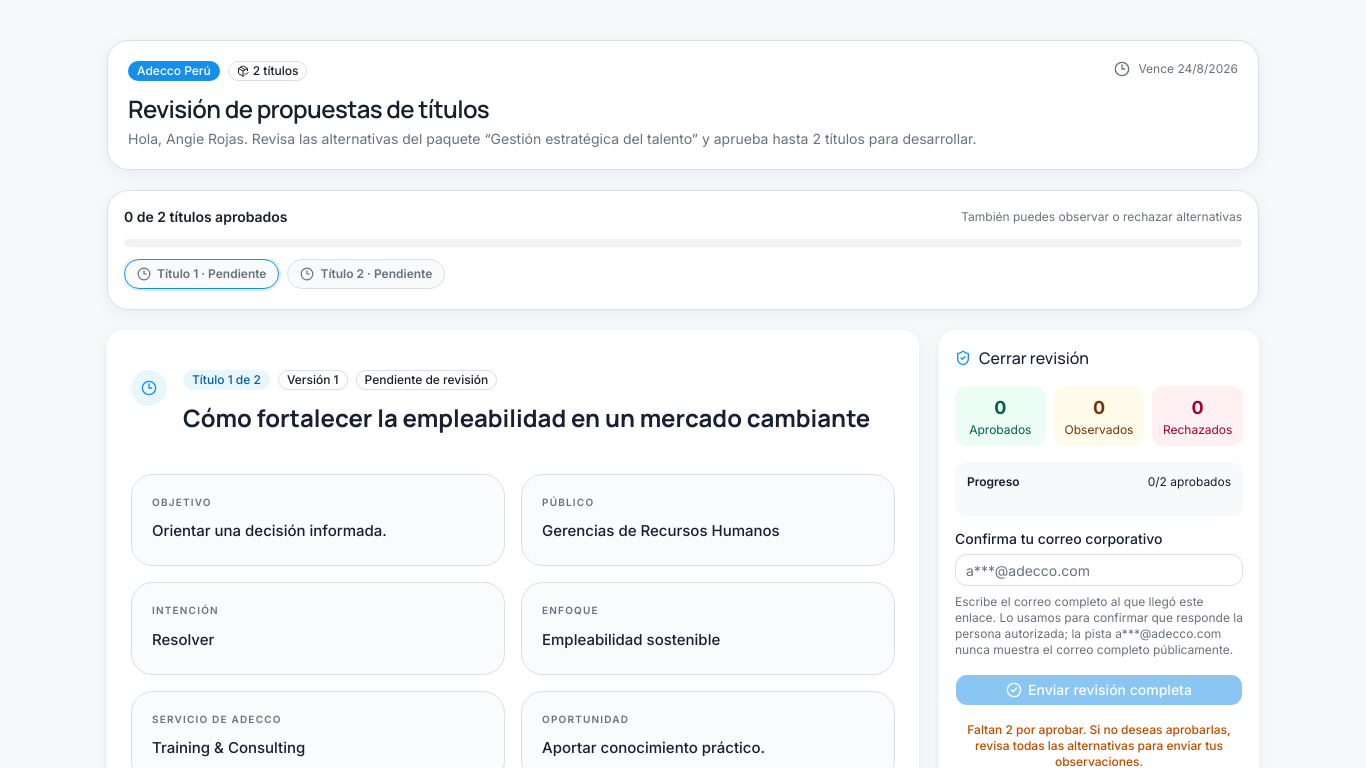
Test: TitlePackageReviewPortal › muestra un título a la vez y permite cambiarlo desde el selector
Check: the text "Cómo fortalecer la empleabilidad en un mercado cambiante" is shown, box 183,402 -> 870,434
Check: the text "Gestión del talento: decisiones para sostener el negocio" is not shown
Click the tab "Título 2 · Pendiente": (366, 274) 288,259 -> 445,289
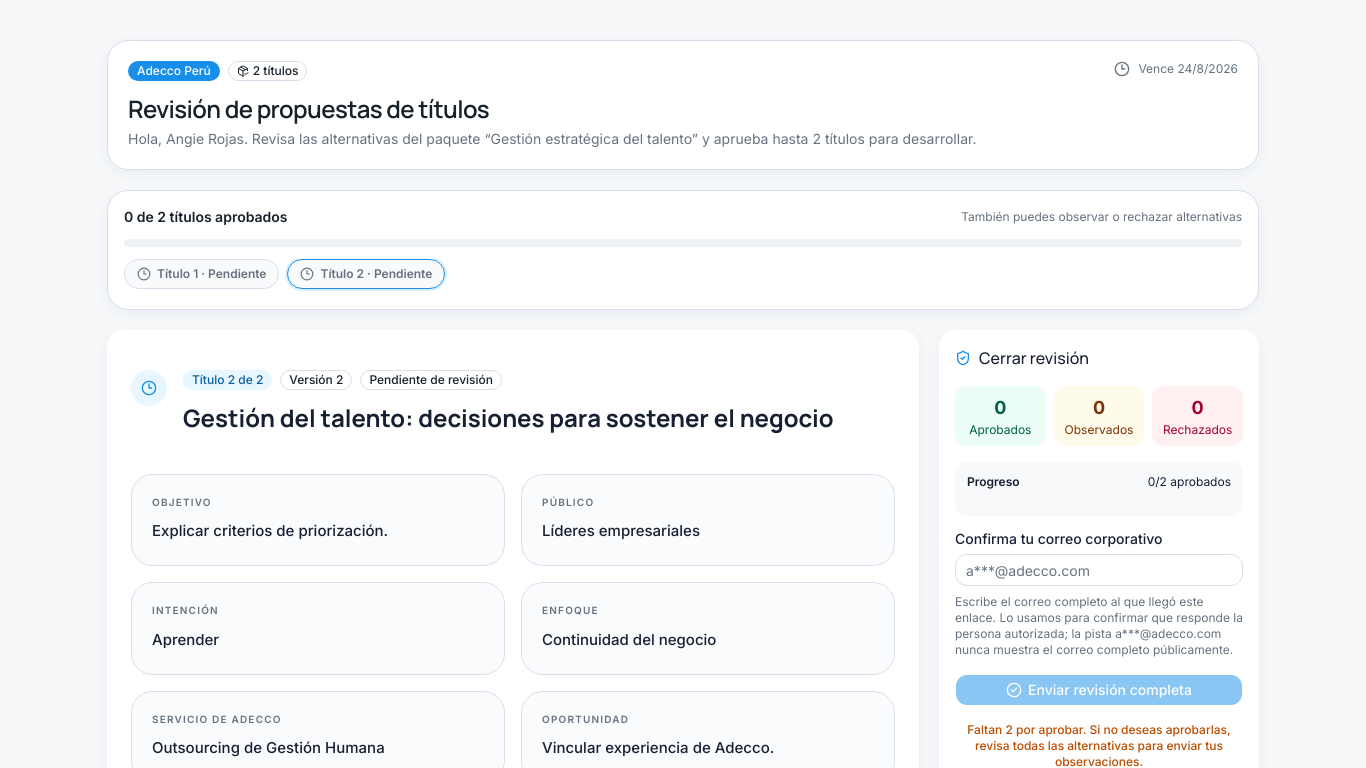
Check: the text "Cómo fortalecer la empleabilidad en un mercado cambiante" is gone
Check: the text "Gestión del talento: decisiones para sostener el negocio" is shown, box 183,402 -> 834,434
Check: the text "Título 2 de 2" is shown, box 183,370 -> 272,390
